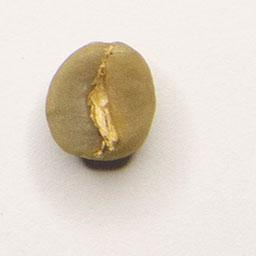premium: (41, 37, 161, 163)
